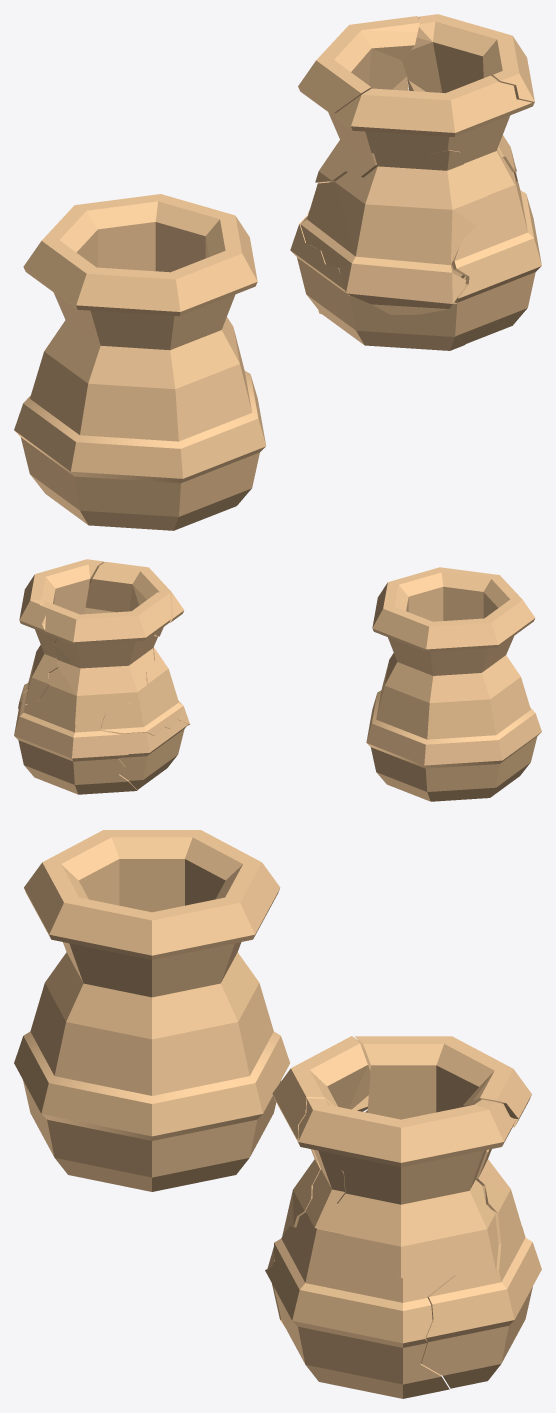
File: PotFixedRepaired.fbx
3 views of the same model, one above another, from view 1: azimuth 30°, elevation 25°; view 2: azimuth 150°, elevation 25°; view 3: azimuth 270°, elevation 25° (orthographic). The views are drawn at different scales.
Visible parts, largest first — view 1: Pot, Cracked6, Cracked2, Cracked, Cracked_7, Cracked4, Cracked5; view 2: Pot, Cracked_7, Cracked3, Cracked4, Cracked6, Cracked2, Cracked5; view 3: Pot, Cracked4, Cracked, Cracked_7, Cracked3, Cracked2, Cracked6.
Part boxes in pixels (x1,y1,x2,y2): Pot: [14, 194, 265, 530]; Cracked6: [300, 150, 487, 315]; Cracked2: [334, 75, 532, 195]; Cracked: [451, 172, 541, 344]; Cracked_7: [298, 16, 419, 182]; Cracked4: [402, 14, 534, 181]; Cracked5: [290, 214, 465, 350]; Pot: [366, 567, 541, 801]; Cracked_7: [40, 592, 170, 730]; Cracked3: [14, 691, 137, 794]; Cracked4: [19, 559, 103, 704]; Cracked6: [100, 635, 190, 735]; Cracked2: [84, 562, 184, 636]; Cracked5: [119, 720, 188, 789]; Pot: [14, 830, 289, 1191]; Cracked4: [298, 1098, 515, 1296]; Cracked: [265, 1212, 449, 1398]; Cracked_7: [355, 1036, 531, 1243]; Cracked3: [421, 1224, 541, 1388]; Cracked2: [272, 1036, 370, 1233]; Cracked6: [267, 1149, 320, 1268].
Bounding box in the file's own units: 2.26 × 0.9002 × 1.57.
